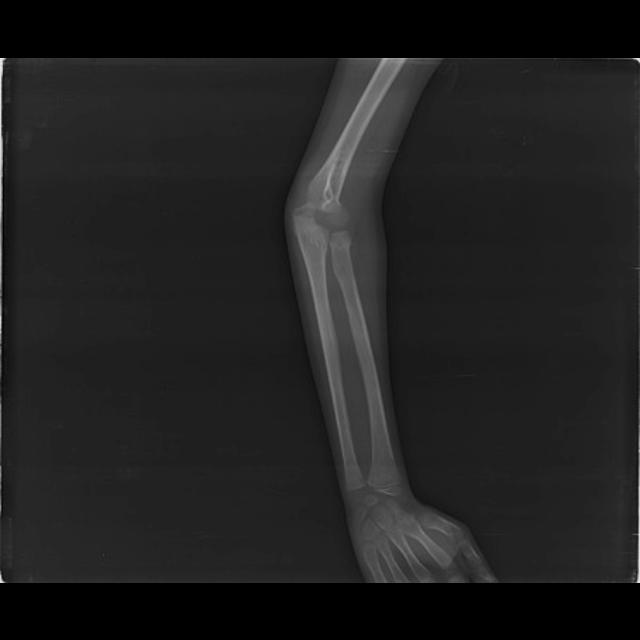Fracture: (288, 224, 331, 255)
